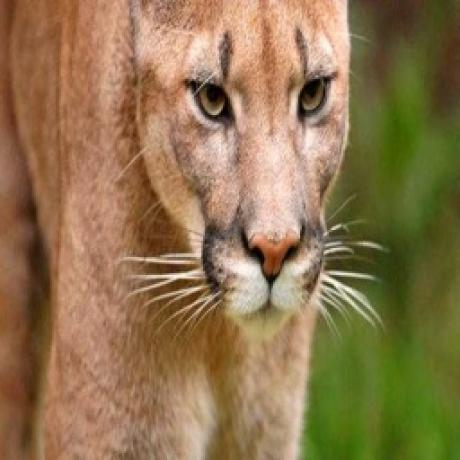Lion: (0, 0, 356, 460)
